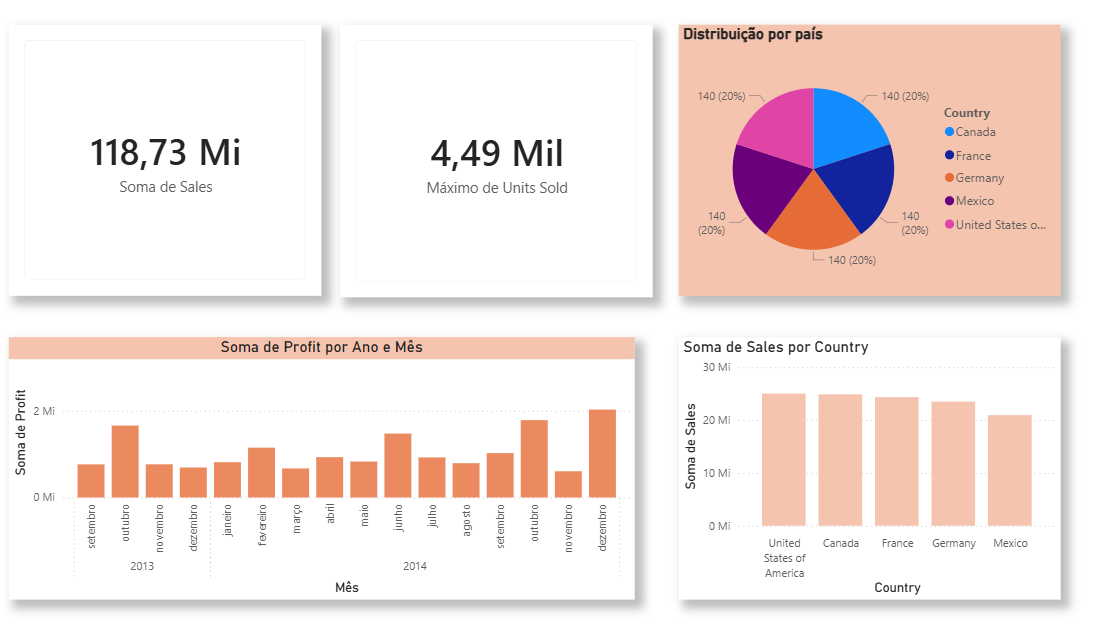

The dashboard page shown, as its layout file describes it:
{"tool":"powerbi","page":{"name":"Página 2","canvas":[1280,720],"ordinal":1},"visuals":[{"type":"pieChart","title":"Distribuição por país","fields":{"Category":["financials.Country"],"Y":["CountNonNull(financials.Product)"]},"box":[745.5,37.1,419.1,297.9],"z":0},{"type":"columnChart","fields":{"Category":["financials.Country"],"Y":["Sum(financials.Sales)"]},"box":[745.5,380.6,419.1,287.9],"z":1000},{"type":"clusteredColumnChart","fields":{"Category":["financials.Date.Variation.Hierarquia de datas.Ano","financials.Date.Variation.Hierarquia de datas.Mês"],"Y":["Sum(financials.Profit)"]},"box":[10,380.6,687,287.9],"z":2000},{"type":"cardVisual","fields":{"Data":["Sum(financials.Sales)"]},"box":[10,37.1,343.5,297.9],"z":3000},{"type":"cardVisual","fields":{"Data":["Max(financials.Units Sold)"]},"box":[373.5,37.1,343.5,299.3],"z":4000}]}

Visuals, with their boxes in screenshot pixels (x1, y1, x2, y2), scaled from the page's 1280x720 canvas onto the 1104x631 screenshot:
"Distribuição por país" pieChart: {"x1": 643, "y1": 33, "x2": 1004, "y2": 294}
columnChart - financials.Country x Sum(financials.Sales): {"x1": 643, "y1": 334, "x2": 1004, "y2": 586}
clusteredColumnChart - financials.Date.Variation.Hierarquia de datas.Ano x financials.Date.Variation.Hierarquia de datas.Mês: {"x1": 9, "y1": 334, "x2": 601, "y2": 586}
cardVisual - Sum(financials.Sales): {"x1": 9, "y1": 33, "x2": 305, "y2": 294}
cardVisual - Max(financials.Units Sold): {"x1": 322, "y1": 33, "x2": 618, "y2": 295}
